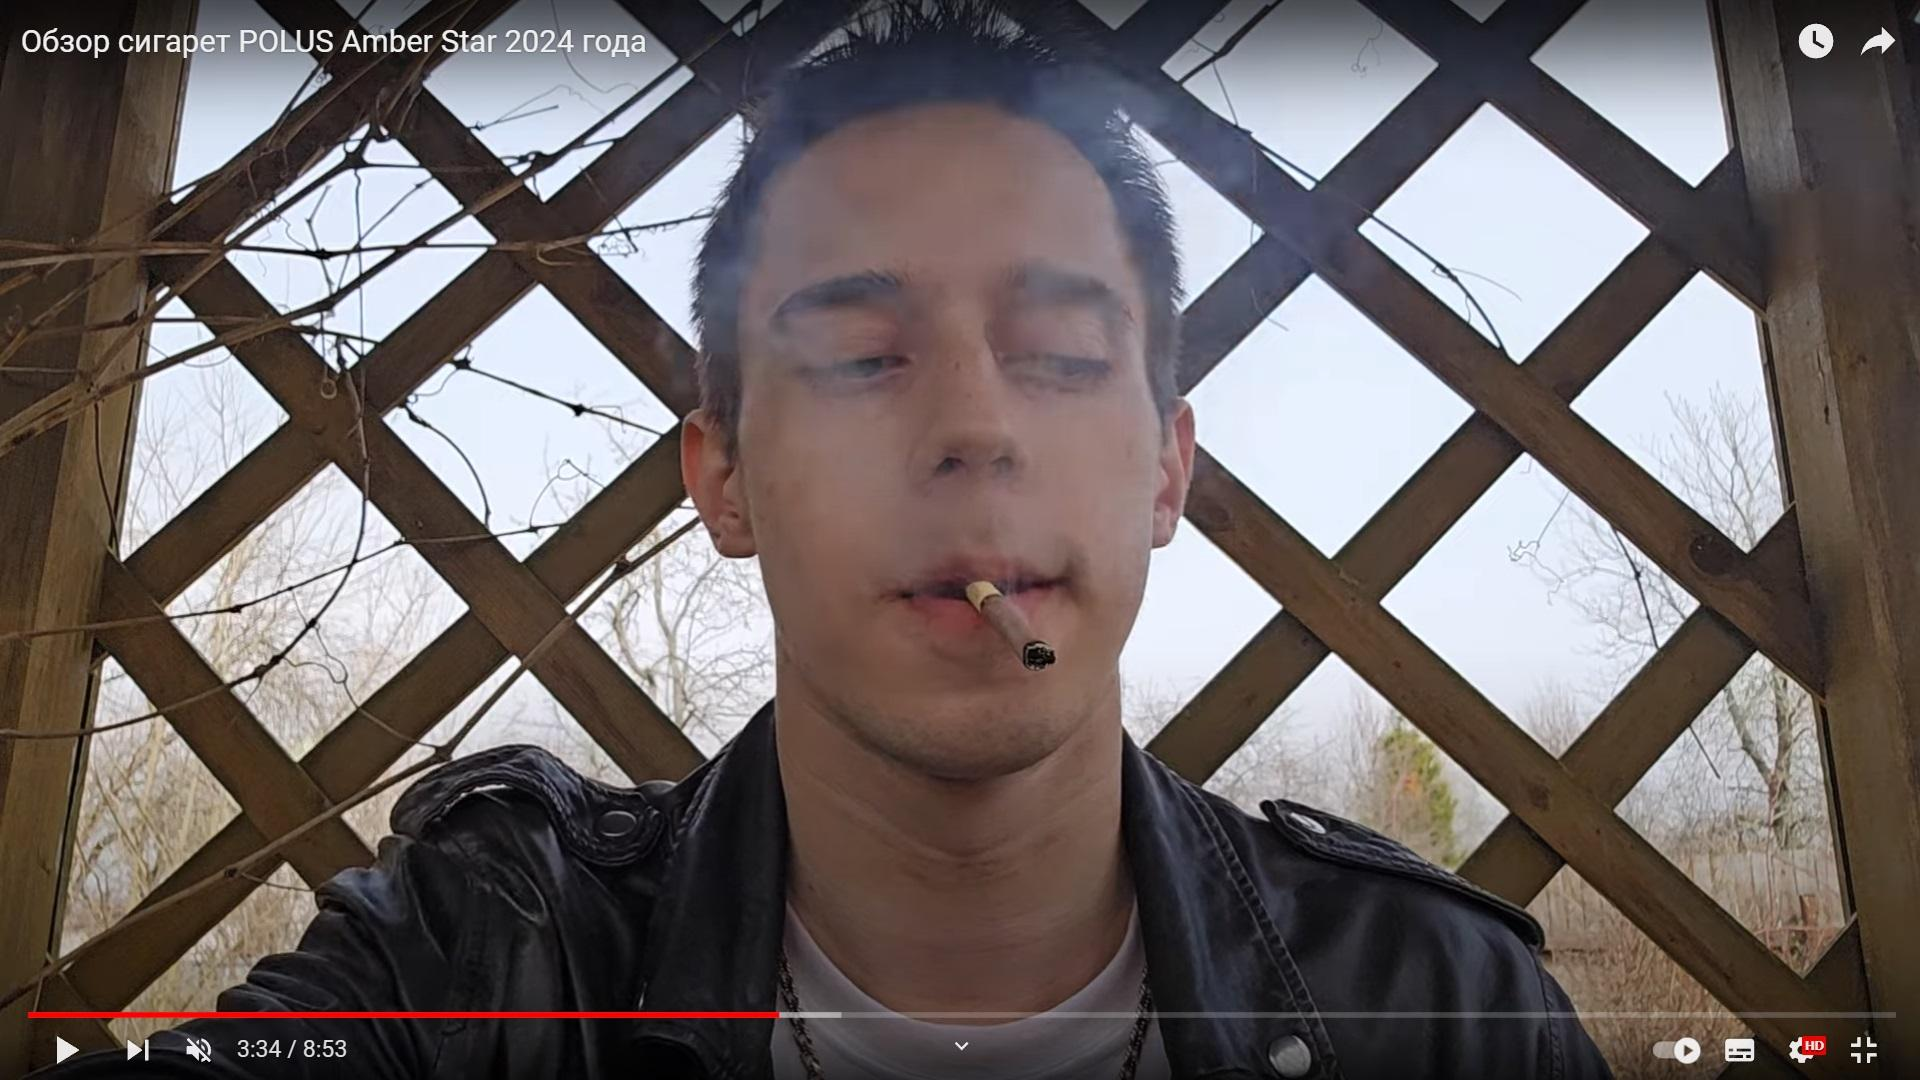cigarette: (964, 579, 1059, 673)
